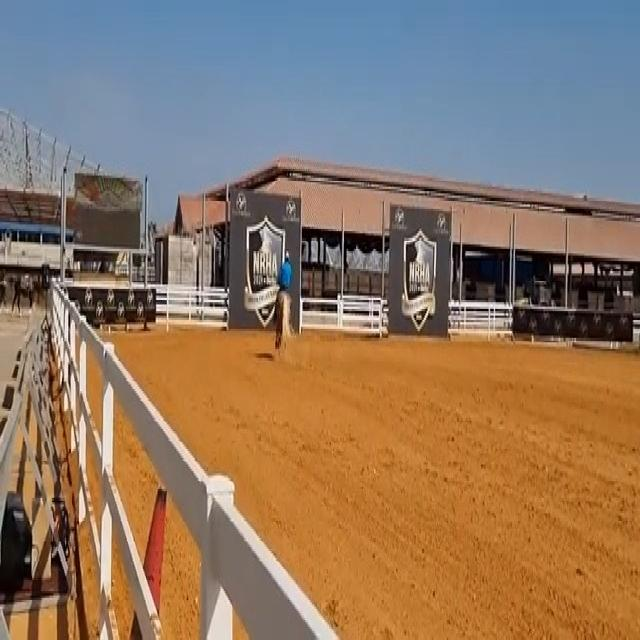horse: (271, 284, 292, 354)
